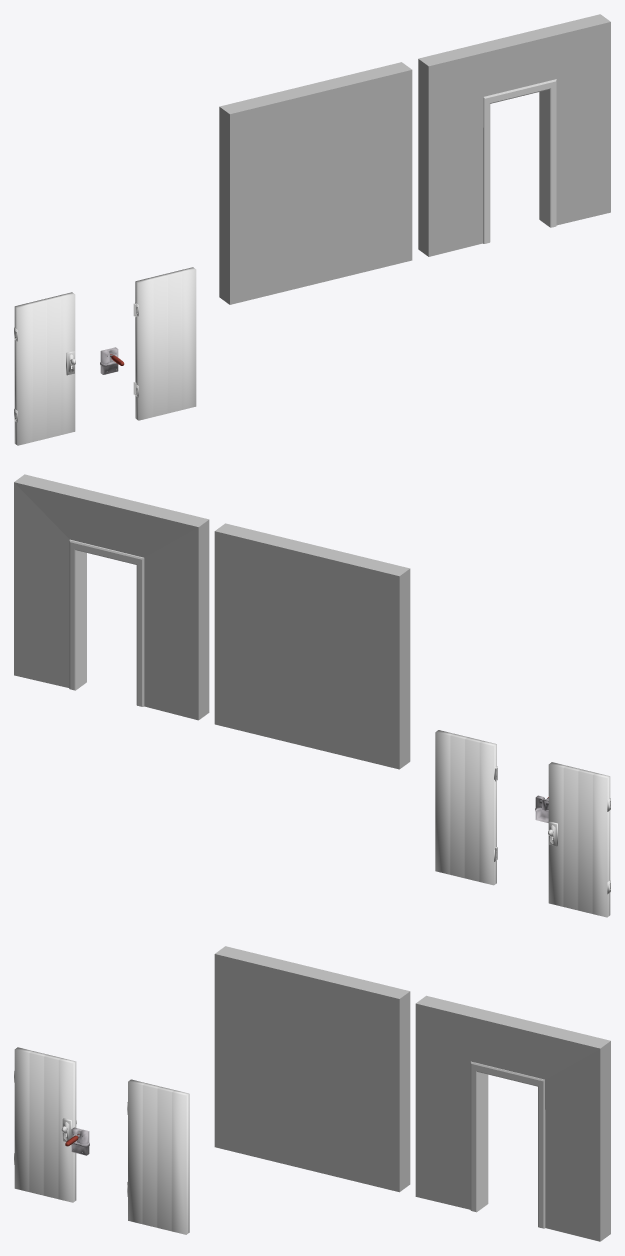
Rendered from Lever.fbx.
The picture shows the model from 3 angles, top to bottom: view 1: azimuth 30°, elevation 25°; view 2: azimuth 150°, elevation 25°; view 3: azimuth 330°, elevation 25°; orthographic projection.
Parts seen in each view (by area): view 1: ParededComum, ParedePorta, Porta/SMaçaneta, Porta; view 2: ParededComum, ParedePorta, Porta, Porta/SMaçaneta; view 3: ParededComum, ParedePorta, Porta/SMaçaneta, Porta, Maçaneta.
Boxes of the visible parts, left/top/right/bottom form: ParededComum: left=219, top=62, right=412, bottom=304; ParedePorta: left=418, top=14, right=610, bottom=256; Porta/SMaçaneta: left=133, top=267, right=196, bottom=420; Porta: left=14, top=292, right=75, bottom=445; ParededComum: left=214, top=523, right=410, bottom=769; ParedePorta: left=14, top=474, right=209, bottom=720; Porta: left=548, top=762, right=610, bottom=917; Porta/SMaçaneta: left=435, top=730, right=497, bottom=885; ParededComum: left=214, top=946, right=410, bottom=1192; ParedePorta: left=415, top=995, right=610, bottom=1241; Porta/SMaçaneta: left=127, top=1079, right=189, bottom=1234; Porta: left=14, top=1047, right=76, bottom=1202; Maçaneta: left=71, top=1127, right=89, bottom=1155.
Bounding box in the file's own units: 965 × 451 × 98.82.
